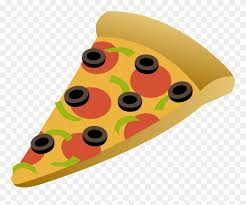pizza: (16, 7, 236, 187)
